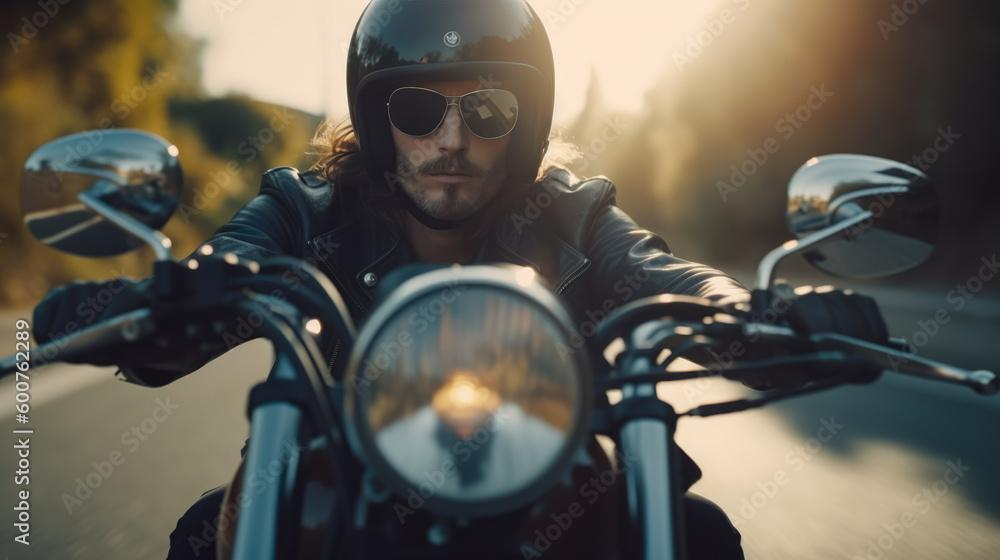helmet: (344, 0, 557, 232)
